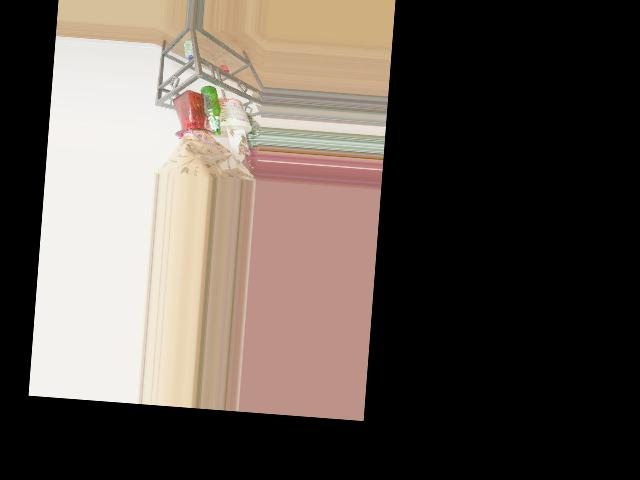beer: (198, 84, 224, 135)
